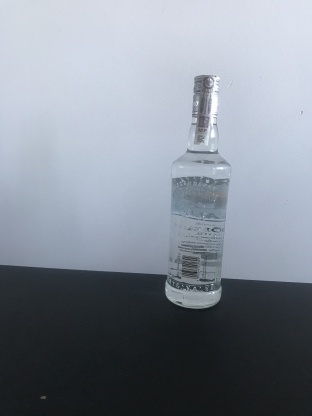nakretka: (190, 70, 222, 121)
